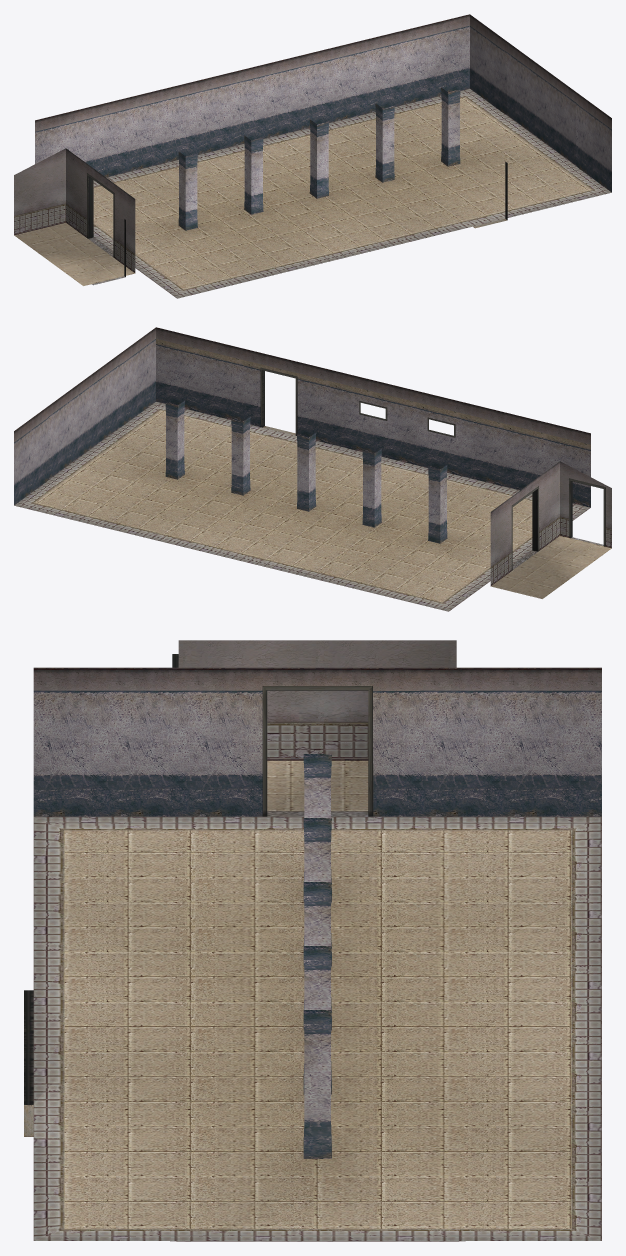
File: Mission10_WareHouseInt03.glb
3 views of the same model, one above another, from view 1: azimuth 30°, elevation 25°; view 2: azimuth 150°, elevation 25°; view 3: azimuth 270°, elevation 25° (orthographic). The views are drawn at different scales.
Parts seen in each view (by area): view 1: MISSION10_WAREHOUSEINT03; view 2: MISSION10_WAREHOUSEINT03; view 3: MISSION10_WAREHOUSEINT03.
Boxes of the visible parts, x1,y1,x2,y2 form: MISSION10_WAREHOUSEINT03: (14, 14, 611, 298); MISSION10_WAREHOUSEINT03: (14, 327, 611, 611); MISSION10_WAREHOUSEINT03: (24, 640, 601, 1241).
Bounding box in the file's own units: 22.53 × 3.25 × 11.44.
8 materials, 8 textured.
